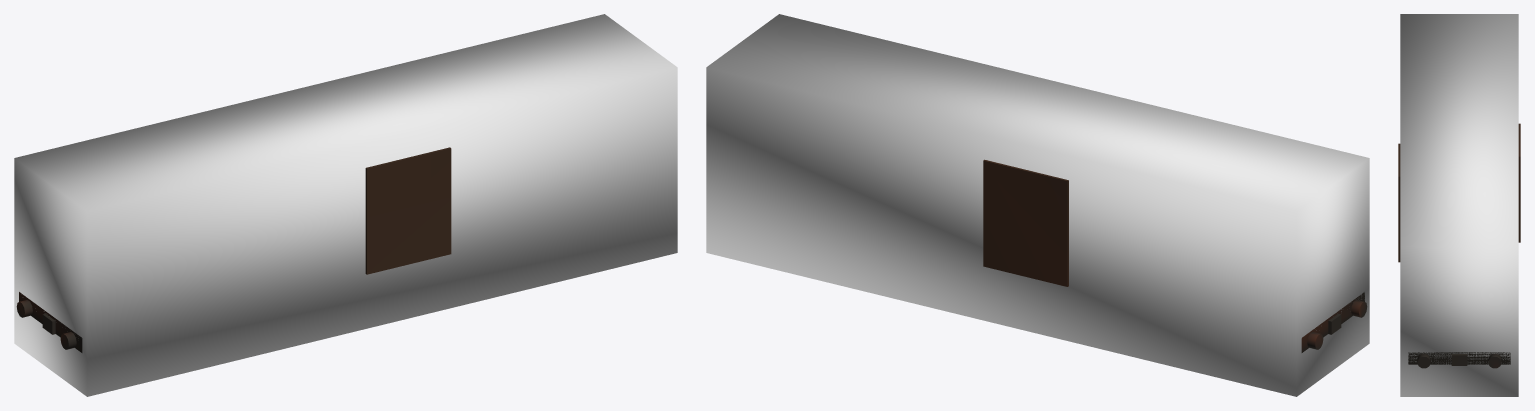
The model's file is vagon.glb.
The picture shows the model from 3 angles, left to right: view 1: azimuth 30°, elevation 25°; view 2: azimuth 150°, elevation 25°; view 3: azimuth 270°, elevation 25°; orthographic projection. The views are drawn at different scales.
Visible parts, largest first — view 1: vagon-colcaja, vagon; view 2: vagon-colcaja, vagon; view 3: vagon-colcaja, vagon.
Boxes of the visible parts, x1,y1,x2,y2 form: vagon-colcaja: (14, 14, 677, 396); vagon: (16, 147, 451, 352); vagon-colcaja: (706, 14, 1369, 396); vagon: (983, 159, 1367, 352); vagon-colcaja: (1400, 14, 1518, 396); vagon: (1398, 123, 1520, 368).
Size of the model in its own units: 14.38 by 4.2 by 3.1.
